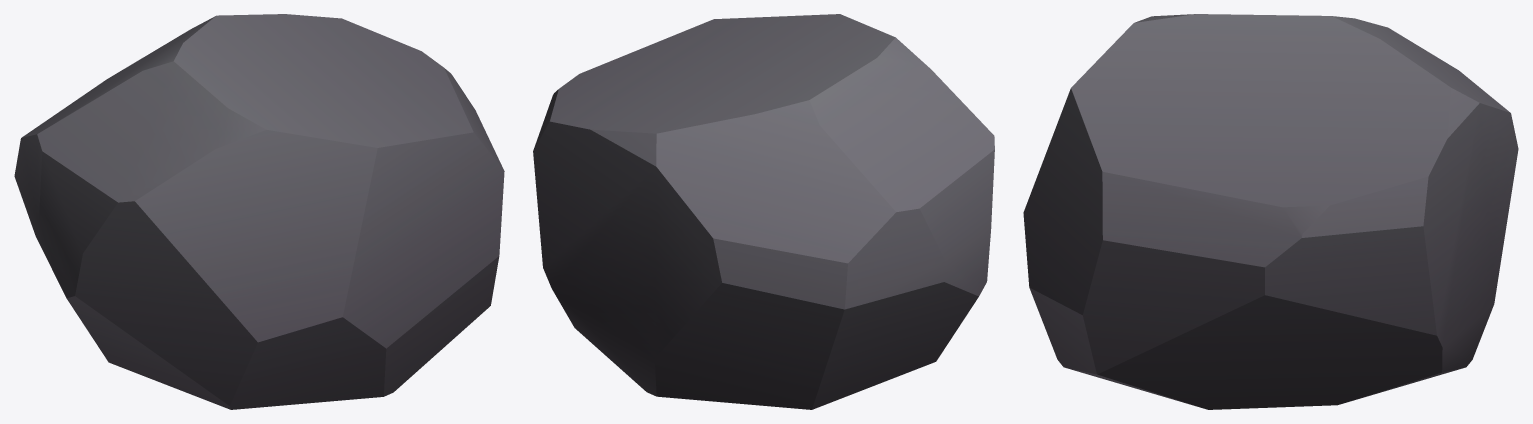
Rendered from Rock_03.fbx.
3 views of the same model, side by side, from view 1: azimuth 30°, elevation 25°; view 2: azimuth 150°, elevation 25°; view 3: azimuth 270°, elevation 25° (orthographic). The views are drawn at different scales.
Visible parts, largest first — view 1: Rock_03; view 2: Rock_03; view 3: Rock_03.
Part boxes in pixels (x1,y1,x2,y2): Rock_03: (14,14,504,409); Rock_03: (533,14,994,409); Rock_03: (1023,14,1518,409).
Size of the model in its own units: 99.96 by 63.39 by 94.23.
